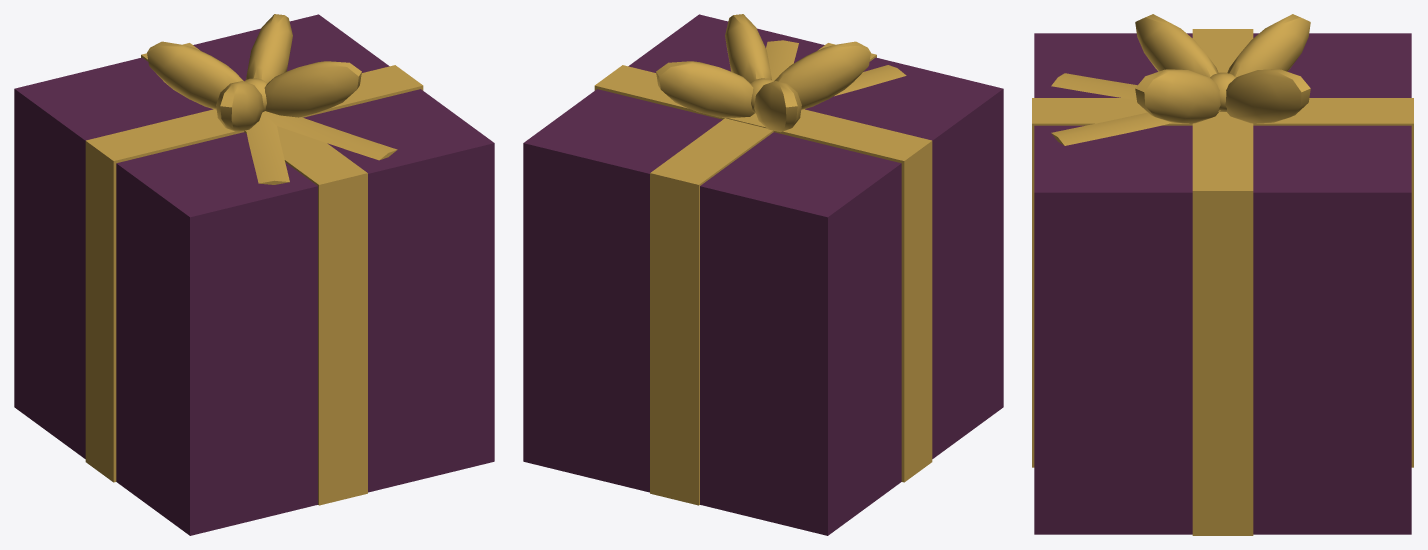
File: gift_box.glb
3 renders of one model, left to right at view 1: azimuth 30°, elevation 25°; view 2: azimuth 150°, elevation 25°; view 3: azimuth 270°, elevation 25°, orthographic. The views are drawn at different scales.
Visible parts, largest first — view 1: gift_box, ribbon; view 2: gift_box, ribbon; view 3: gift_box, ribbon.
Boxes of the visible parts, left/top/right/bottom form: gift_box: left=14, top=14, right=494, bottom=535; ribbon: left=85, top=14, right=423, bottom=505; gift_box: left=523, top=14, right=1003, bottom=535; ribbon: left=594, top=14, right=932, bottom=505; gift_box: left=1034, top=33, right=1411, bottom=534; ribbon: left=1032, top=14, right=1413, bottom=535.
Bounding box in the file's own units: 0.407 × 0.4774 × 0.405.
